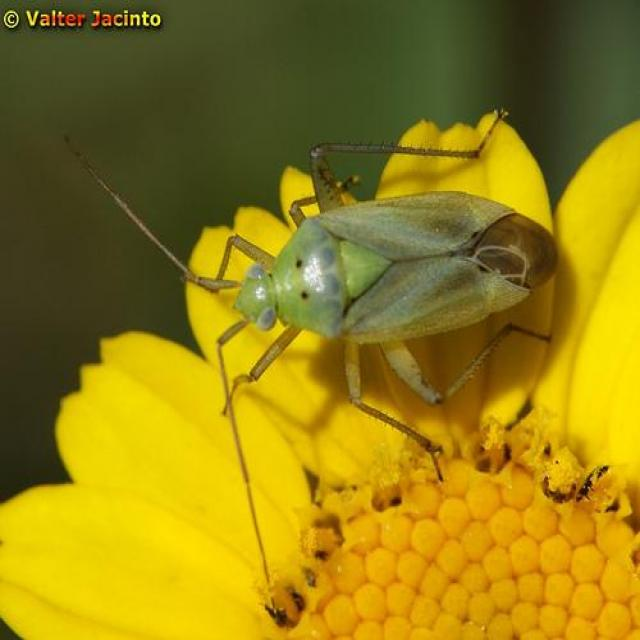Miridae-Adult-: (32, 66, 566, 488)
